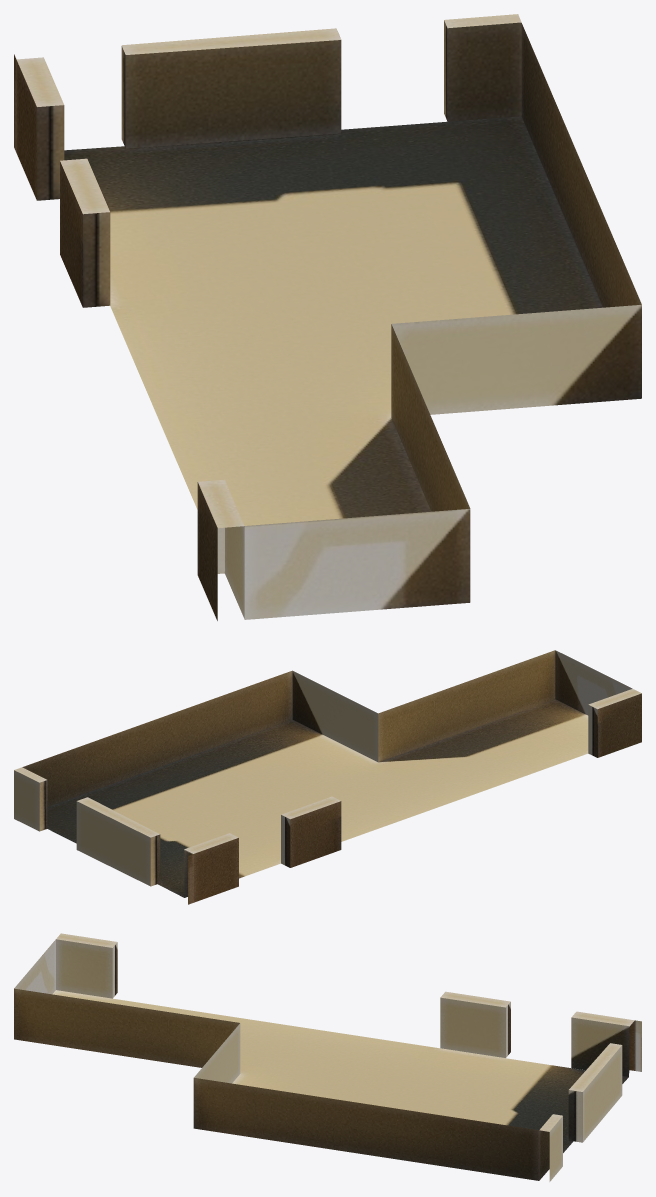
Rendered from Building_05_App_Walls_07.fbx.
3 renders of one model, top to bottom at view 1: azimuth 30°, elevation 25°; view 2: azimuth 150°, elevation 25°; view 3: azimuth 270°, elevation 25°, orthographic. The views are drawn at different scales.
Parts seen in each view (by area): view 1: Building_05_App_Walls_07; view 2: Building_05_App_Walls_07; view 3: Building_05_App_Walls_07.
Boxes of the visible parts, x1,y1,x2,y2 form: Building_05_App_Walls_07: (14, 14, 641, 620); Building_05_App_Walls_07: (14, 650, 641, 904); Building_05_App_Walls_07: (14, 933, 641, 1181).
Size of the model in its own units: 12.48 by 1.49 by 16.68.
1 material, 1 textured.
